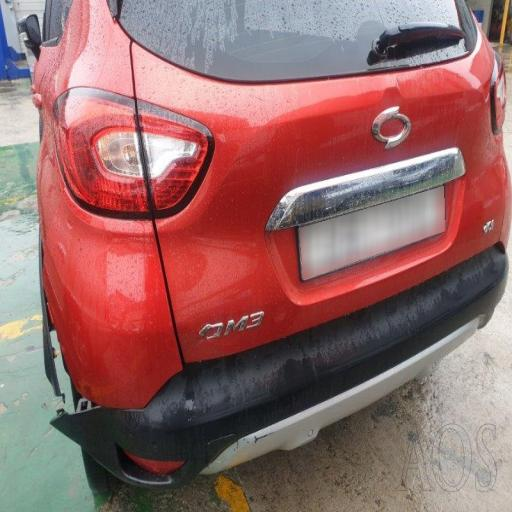broken: (34, 282, 153, 477)
scratch: (86, 0, 492, 136)
